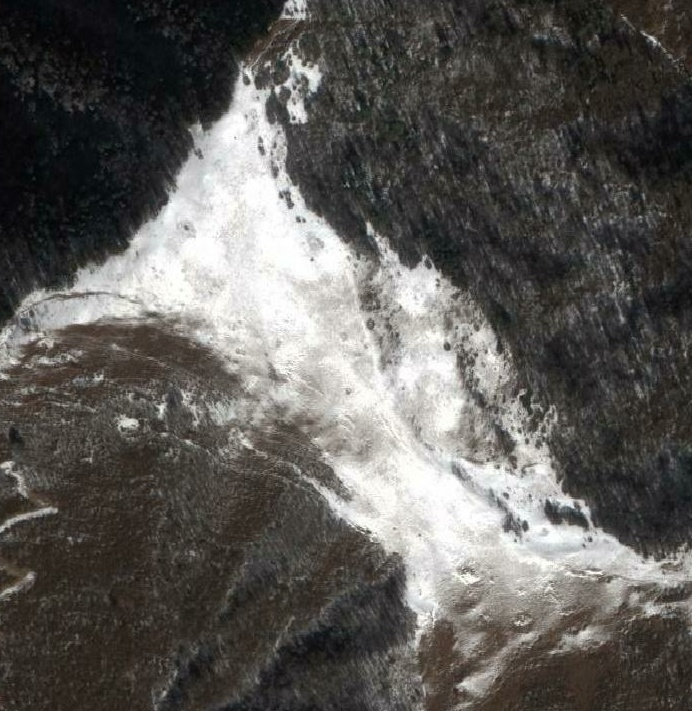slope: (0, 0, 691, 710)
